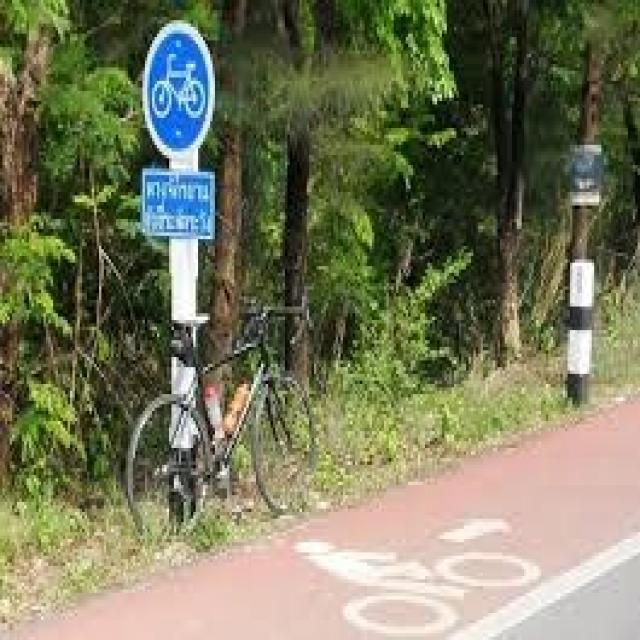bicycle: (122, 23, 235, 164)
